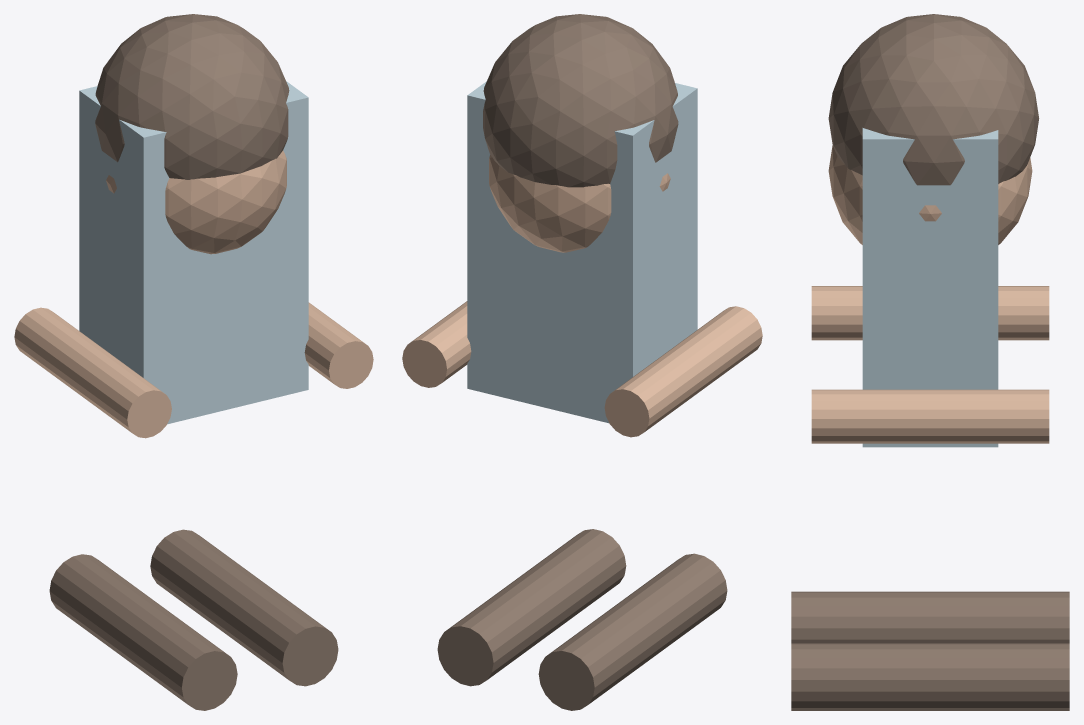
Rendered from sim_adult_slender.glb.
The picture shows the model from 3 angles, left to right: view 1: azimuth 30°, elevation 25°; view 2: azimuth 150°, elevation 25°; view 3: azimuth 270°, elevation 25°; orthographic projection. The views are drawn at different scales.
Parts seen in each view (by area): view 1: part_00, part_06, part_03, part_02, part_04, part_01, part_05; view 2: part_00, part_06, part_03, part_02, part_04, part_01, part_05; view 3: part_00, part_06, part_03, part_02, part_05, part_04, part_01.
Part boxes in pixels (bbox=[...]): part_00: bbox=[79, 81, 308, 424]; part_06: bbox=[95, 14, 289, 179]; part_03: bbox=[150, 529, 338, 686]; part_02: bbox=[49, 554, 237, 710]; part_04: bbox=[14, 307, 171, 438]; part_01: bbox=[106, 150, 286, 254]; part_05: bbox=[304, 302, 373, 388]; part_00: bbox=[467, 81, 697, 423]; part_06: bbox=[483, 14, 678, 187]; part_03: bbox=[437, 529, 626, 686]; part_02: bbox=[538, 553, 727, 710]; part_04: bbox=[604, 306, 762, 437]; part_01: bbox=[489, 155, 670, 252]; part_05: bbox=[402, 301, 471, 387]; part_00: bbox=[862, 128, 998, 447]; part_06: bbox=[828, 14, 1039, 185]; part_03: bbox=[791, 643, 1069, 710]; part_02: bbox=[791, 591, 1069, 643]; part_05: bbox=[811, 389, 1049, 443]; part_04: bbox=[811, 286, 1049, 340]; part_01: bbox=[828, 145, 1032, 244].
Bounding box in the file's own units: 0.8816 × 2.14 × 0.82.
